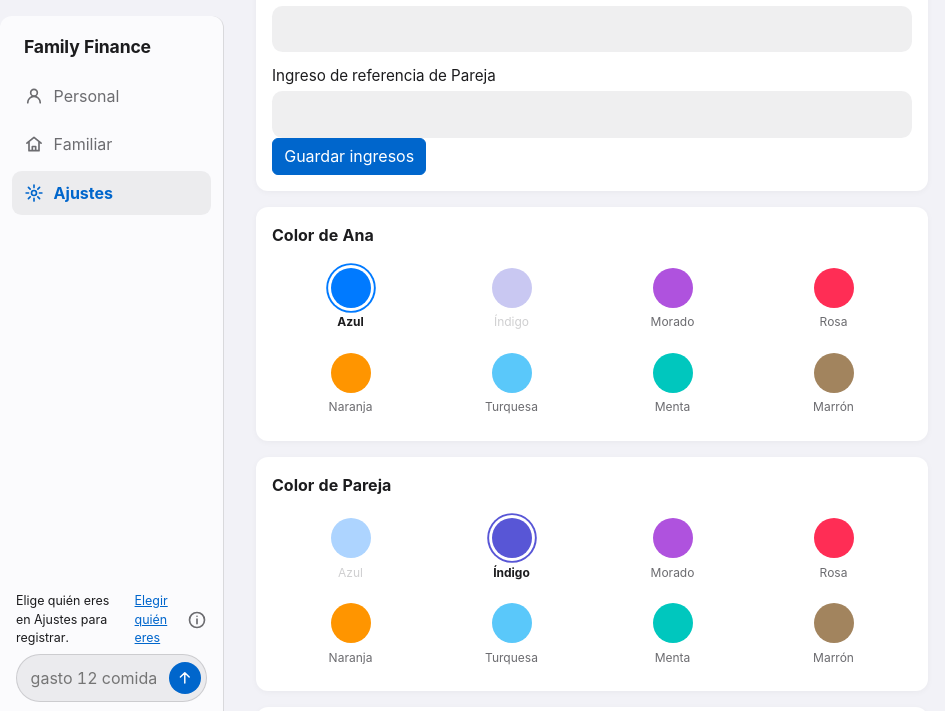
it: settings › B7 A6: picks a free color and saves it
The image size is (945, 711).
(page scrolled)
Click the button "Naranja" below "Color de Ana" at (350, 384), box [272, 348, 429, 421]
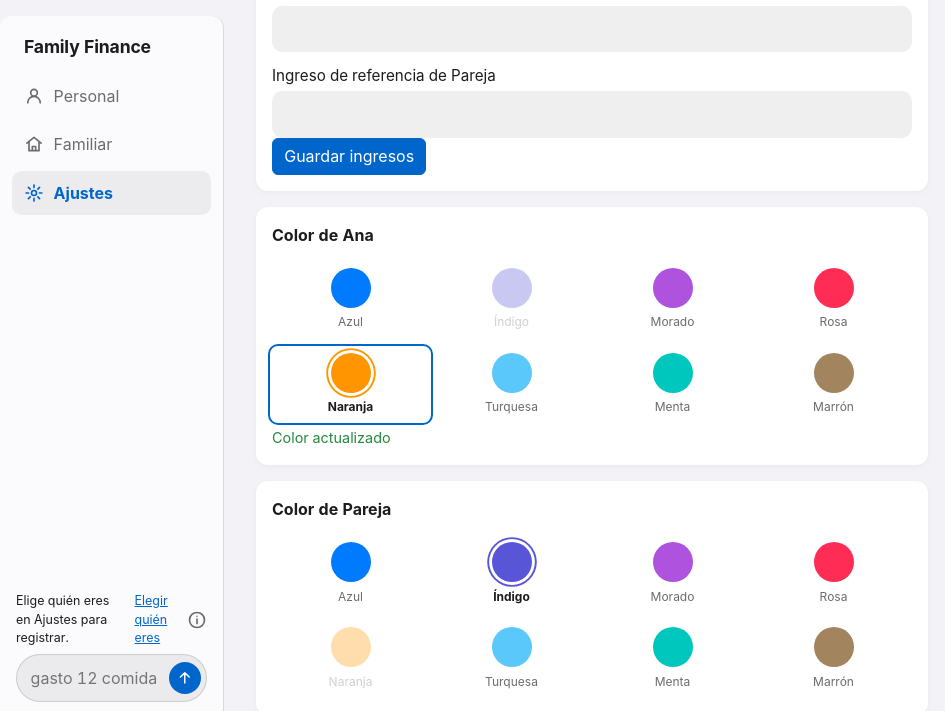
Result: the text "Color actualizado" is shown at [272, 429, 391, 446]
